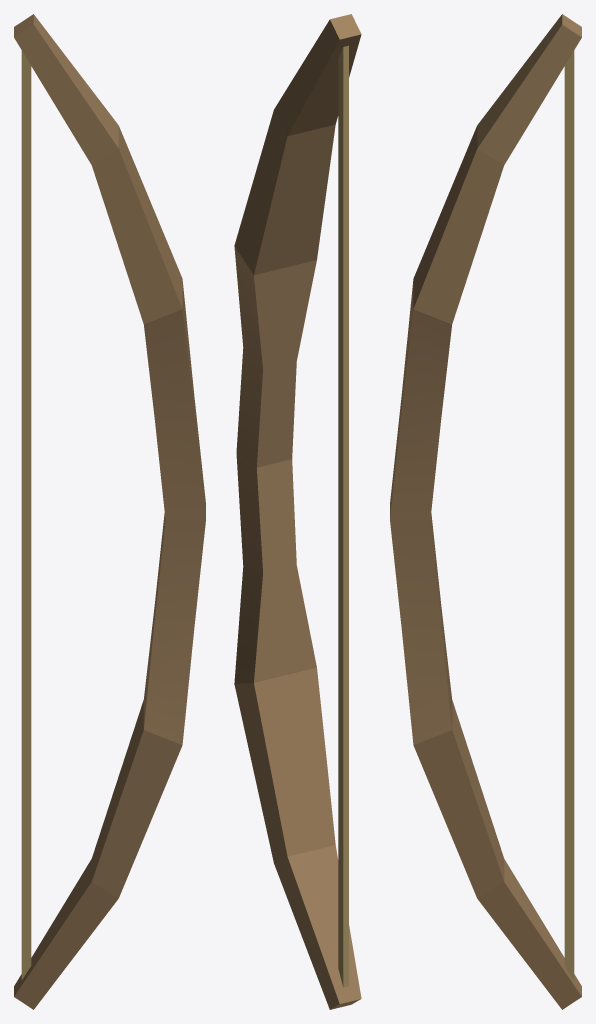
The model's file is Bow_02.fbx.
3 views of the same model, side by side, from view 1: azimuth 90°, elevation 25°; view 2: azimuth 210°, elevation 25°; view 3: azimuth 270°, elevation 25° (orthographic).
Parts seen in each view (by area): view 1: Bow_02; view 2: Bow_02; view 3: Bow_02.
Boxes of the visible parts, left/top/right/bottom form: Bow_02: left=14, top=14, right=205, bottom=1009; Bow_02: left=234, top=14, right=361, bottom=1009; Bow_02: left=390, top=14, right=581, bottom=1009.
Size of the model in its own units: 1.65 by 24.78 by 4.38.
